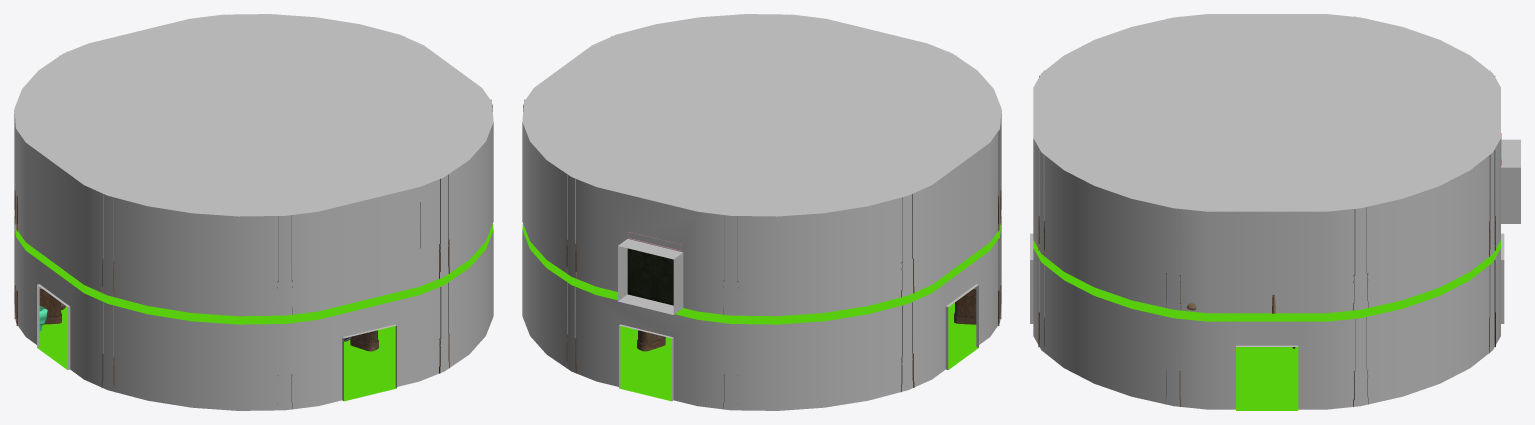
The model's file is roomsB2.fbx.
3 views of the same model, side by side, from view 1: azimuth 30°, elevation 25°; view 2: azimuth 150°, elevation 25°; view 3: azimuth 270°, elevation 25° (orthographic).
Parts seen in each view (by area): view 1: Cylinder.004, Cylinder.006, Cylinder.042, Cylinder.002, Cylinder.005, Cube.077, Cube.035; view 2: Cylinder.004, Cylinder.006, Cylinder.042, Cylinder.005, Cylinder.002, Cube.077, Двери.008, Cube.035, Двери.002; view 3: Cylinder.004, Cylinder.006, Cylinder.042, Cylinder.002, Cylinder.005, Cube.035, Cube.077.
Boxes of the visible parts, left/top/right/bottom form: Cylinder.004: left=14, top=14, right=493, bottom=216; Cylinder.006: left=14, top=110, right=493, bottom=316; Cylinder.042: left=14, top=218, right=493, bottom=410; Cylinder.002: left=14, top=216, right=493, bottom=324; Cylinder.005: left=37, top=306, right=396, bottom=401; Cube.077: left=14, top=233, right=449, bottom=408; Cube.035: left=14, top=36, right=492, bottom=314; Cylinder.004: left=522, top=14, right=1001, bottom=216; Cylinder.006: left=522, top=110, right=1001, bottom=316; Cylinder.042: left=522, top=218, right=1001, bottom=410; Cylinder.005: left=619, top=302, right=978, bottom=401; Cylinder.002: left=522, top=216, right=1001, bottom=324; Cube.077: left=566, top=233, right=1001, bottom=408; Двери.008: left=627, top=248, right=655, bottom=300; Cube.035: left=523, top=36, right=1001, bottom=314; Двери.002: left=655, top=255, right=673, bottom=305; Cylinder.004: left=1033, top=14, right=1500, bottom=211; Cylinder.006: left=1033, top=138, right=1520, bottom=313; Cylinder.042: left=1030, top=233, right=1504, bottom=409; Cylinder.002: left=1033, top=240, right=1500, bottom=321; Cylinder.005: left=1236, top=347, right=1298, bottom=410; Cube.035: left=1038, top=16, right=1495, bottom=310; Cube.077: left=1038, top=260, right=1495, bottom=406.
Size of the model in its own units: 1520 by 702 by 1573.
